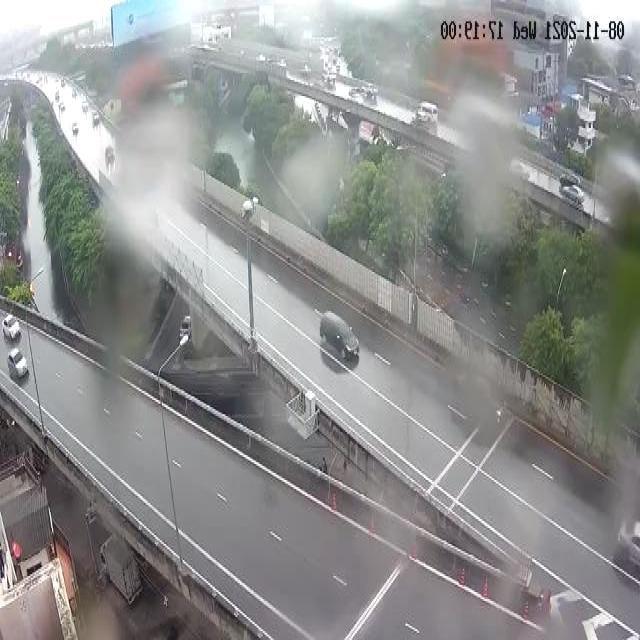Car: (319, 299, 364, 384), (612, 503, 640, 584), (6, 346, 31, 379), (558, 183, 586, 207), (3, 308, 21, 341), (346, 84, 366, 107), (105, 142, 118, 167), (71, 121, 84, 142), (92, 107, 102, 134), (328, 68, 339, 91), (53, 102, 67, 118), (51, 92, 63, 105), (80, 98, 90, 112), (59, 79, 68, 89)
